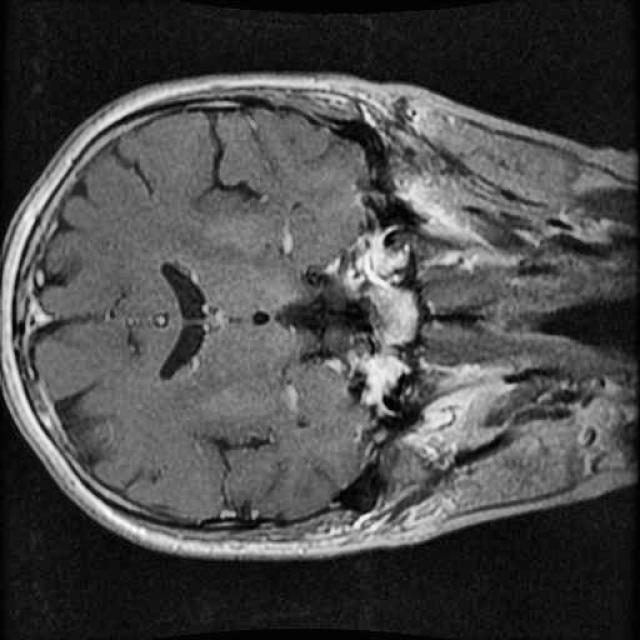Tumor: (352, 276, 424, 352)
